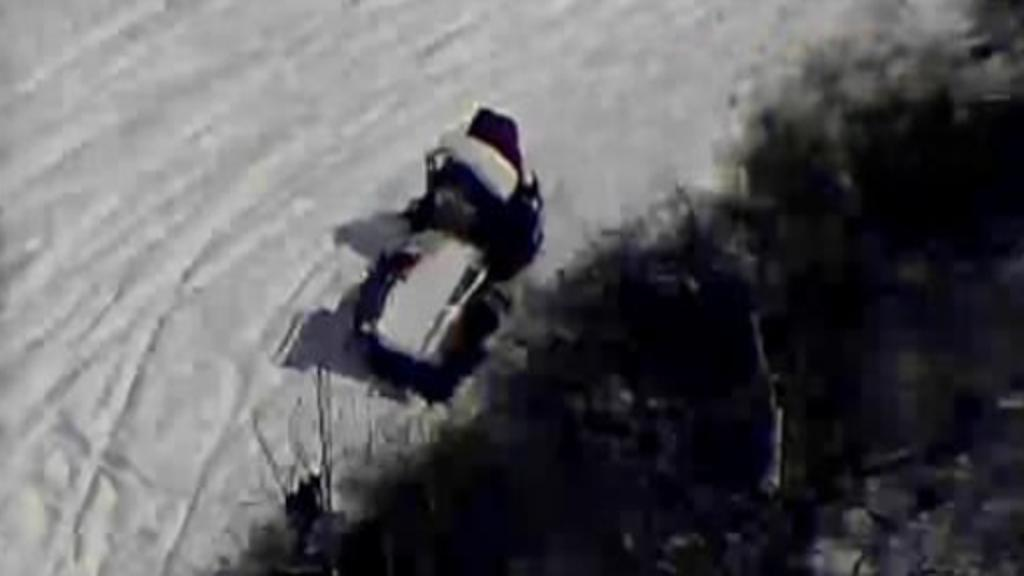TRUCK: (354, 104, 542, 384)
